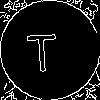T: (25, 25, 58, 72)
